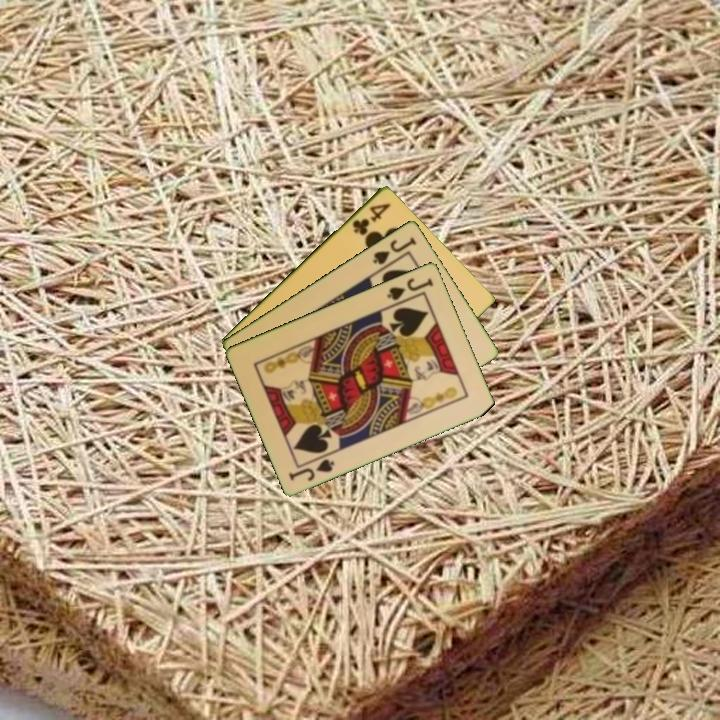4c: (348, 199, 393, 238)
Js: (369, 233, 419, 267), (383, 274, 436, 303), (285, 455, 338, 484)
